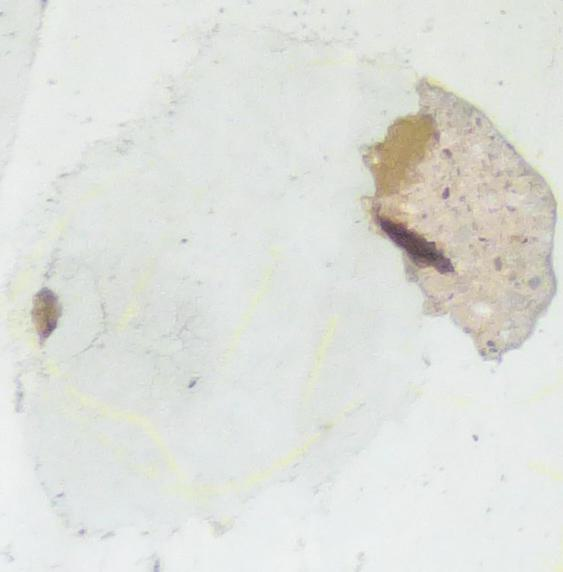Exposed reinforcement: (377, 214, 455, 275)
Spalling: (359, 78, 563, 361), (29, 287, 63, 348)
